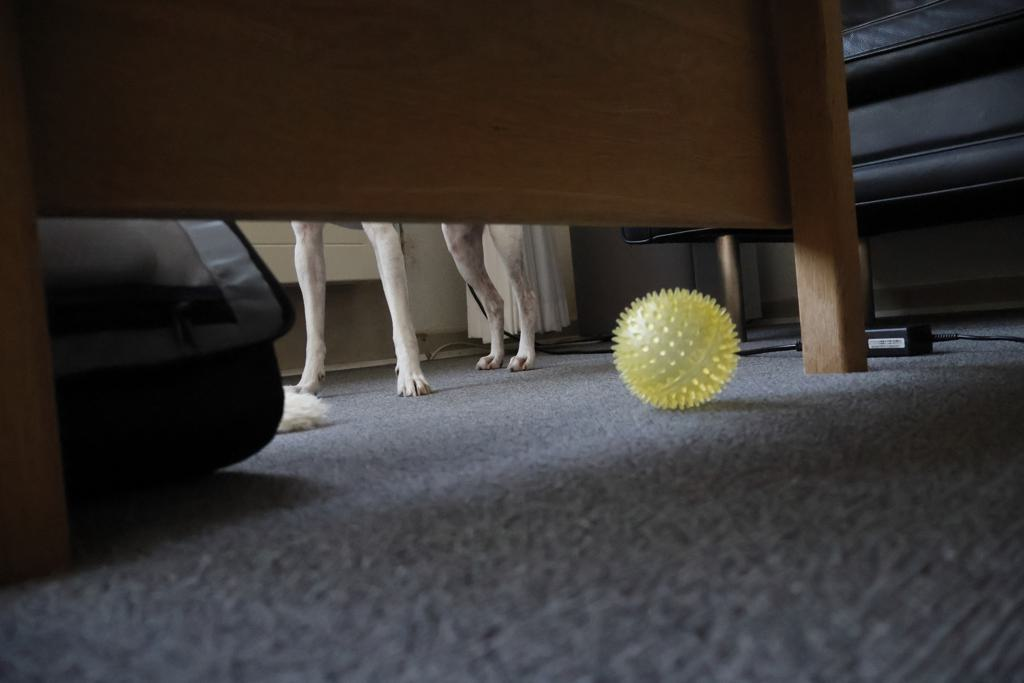Dog: (272, 220, 548, 402)
